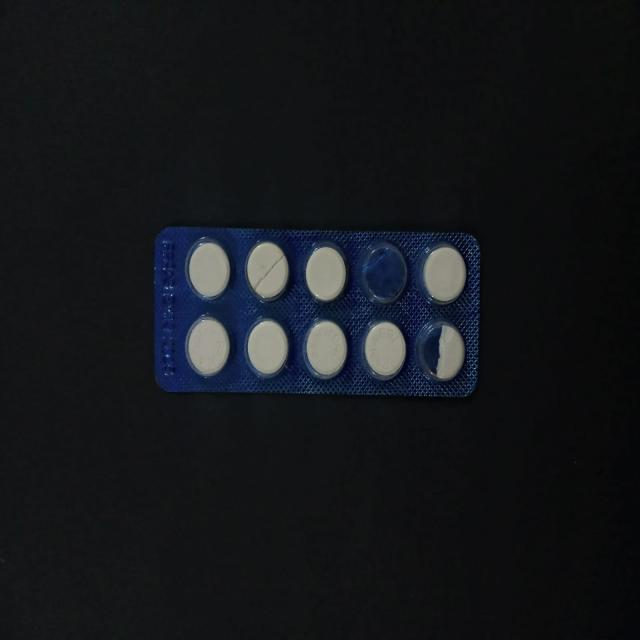defect: (358, 238, 412, 308), (414, 314, 468, 384), (242, 238, 294, 305)
